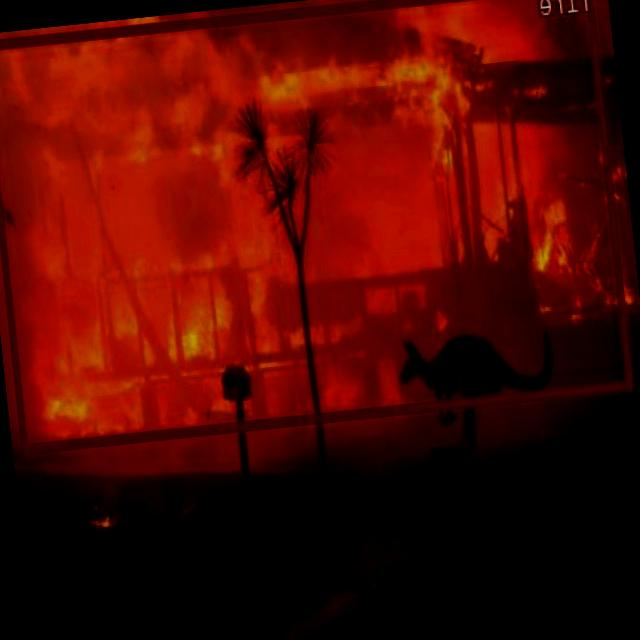fire: (0, 0, 634, 450)
